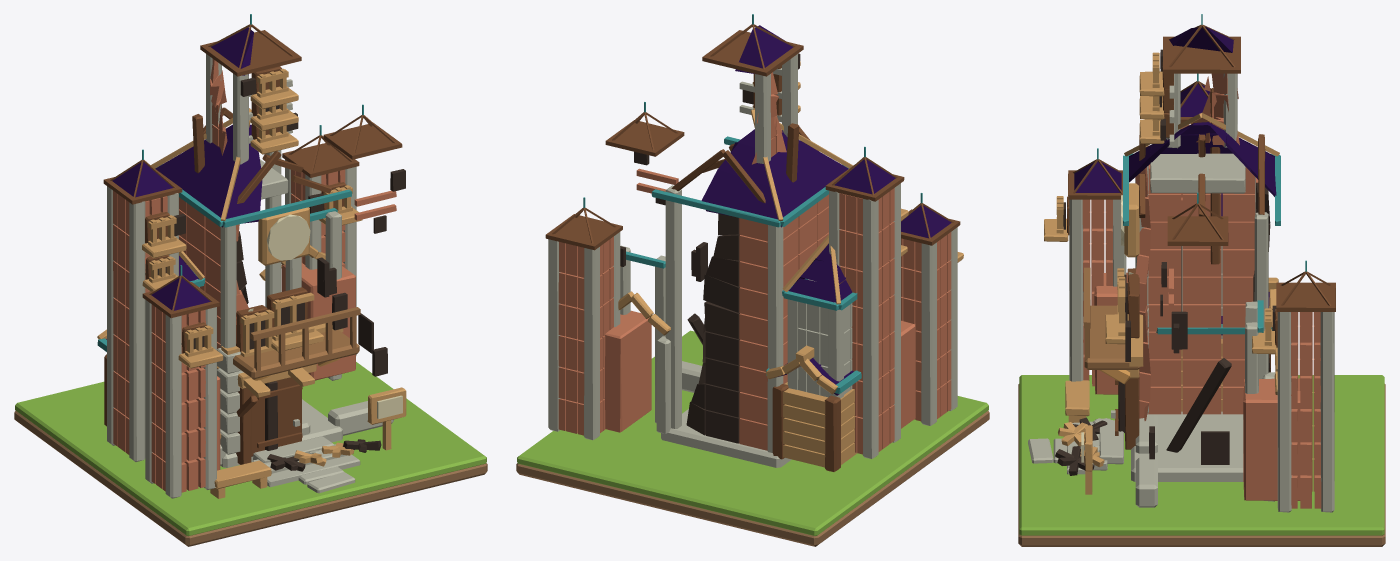
The model's file is town_hall_l15_damaged_LOD1.glb.
3 renders of one model, left to right at view 1: azimuth 30°, elevation 25°; view 2: azimuth 150°, elevation 25°; view 3: azimuth 270°, elevation 25°, orthographic. The views are drawn at different scales.
Parts seen in each view (by area): view 1: town_hall_l15_damaged_foundation.001, town_hall_l15_damaged_grass_tile.001, town_hall_l15_damaged_earth_tile.001, town_hall_l15_damaged_path_stone.005; view 2: town_hall_l15_damaged_foundation.001, town_hall_l15_damaged_grass_tile.001, town_hall_l15_damaged_earth_tile.001; view 3: town_hall_l15_damaged_foundation.001, town_hall_l15_damaged_grass_tile.001, town_hall_l15_damaged_earth_tile.001, town_hall_l15_damaged_path_stone.005.
Boxes of the visible parts, x1=… form: town_hall_l15_damaged_foundation.001: x1=97, y1=14, x2=406, y2=498; town_hall_l15_damaged_grass_tile.001: x1=15, y1=362, x2=486, y2=535; town_hall_l15_damaged_earth_tile.001: x1=14, y1=410, x2=487, y2=546; town_hall_l15_damaged_path_stone.005: x1=307, y1=472, x2=355, y2=493; town_hall_l15_damaged_foundation.001: x1=545, y1=14, x2=963, y2=471; town_hall_l15_damaged_grass_tile.001: x1=517, y1=330, x2=988, y2=535; town_hall_l15_damaged_earth_tile.001: x1=516, y1=410, x2=989, y2=546; town_hall_l15_damaged_foundation.001: x1=1044, y1=14, x2=1335, y2=512; town_hall_l15_damaged_grass_tile.001: x1=1019, y1=375, x2=1384, y2=535; town_hall_l15_damaged_earth_tile.001: x1=1018, y1=384, x2=1385, y2=546; town_hall_l15_damaged_path_stone.005: x1=1028, y1=438, x2=1053, y2=463.
Bounding box in the file's own units: 3.6 × 4.94 × 3.6.
